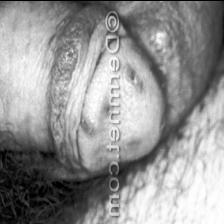Toxin: (122, 50, 150, 167), (85, 82, 107, 164), (55, 17, 79, 83)
